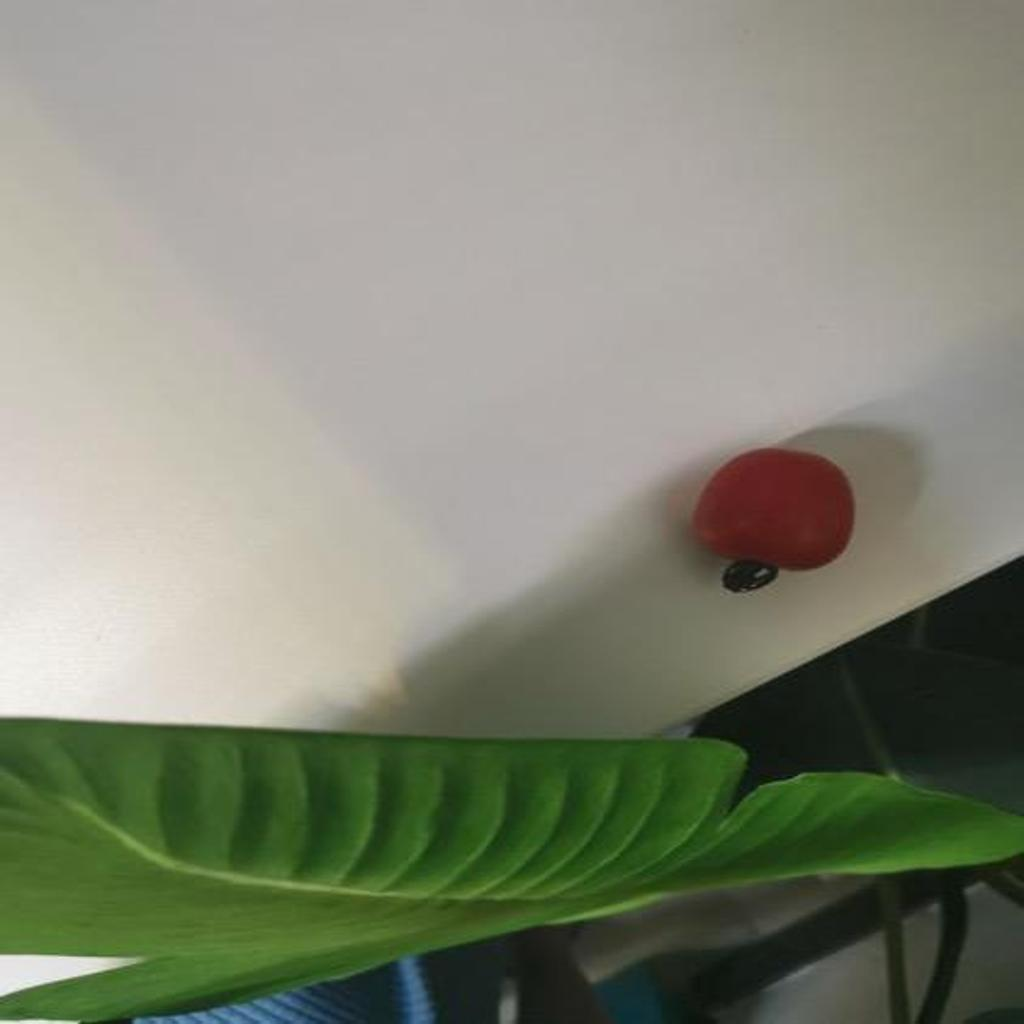tomato: (684, 442, 859, 600)
